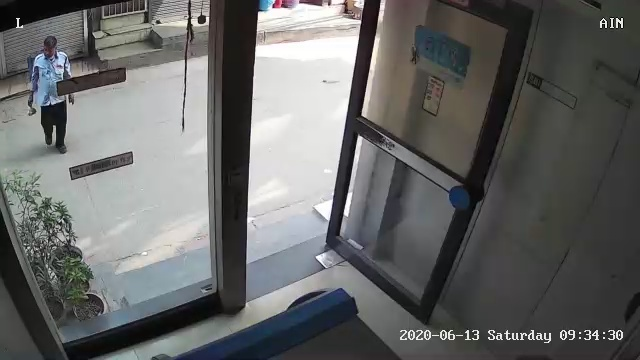open: (198, 5, 541, 324)
